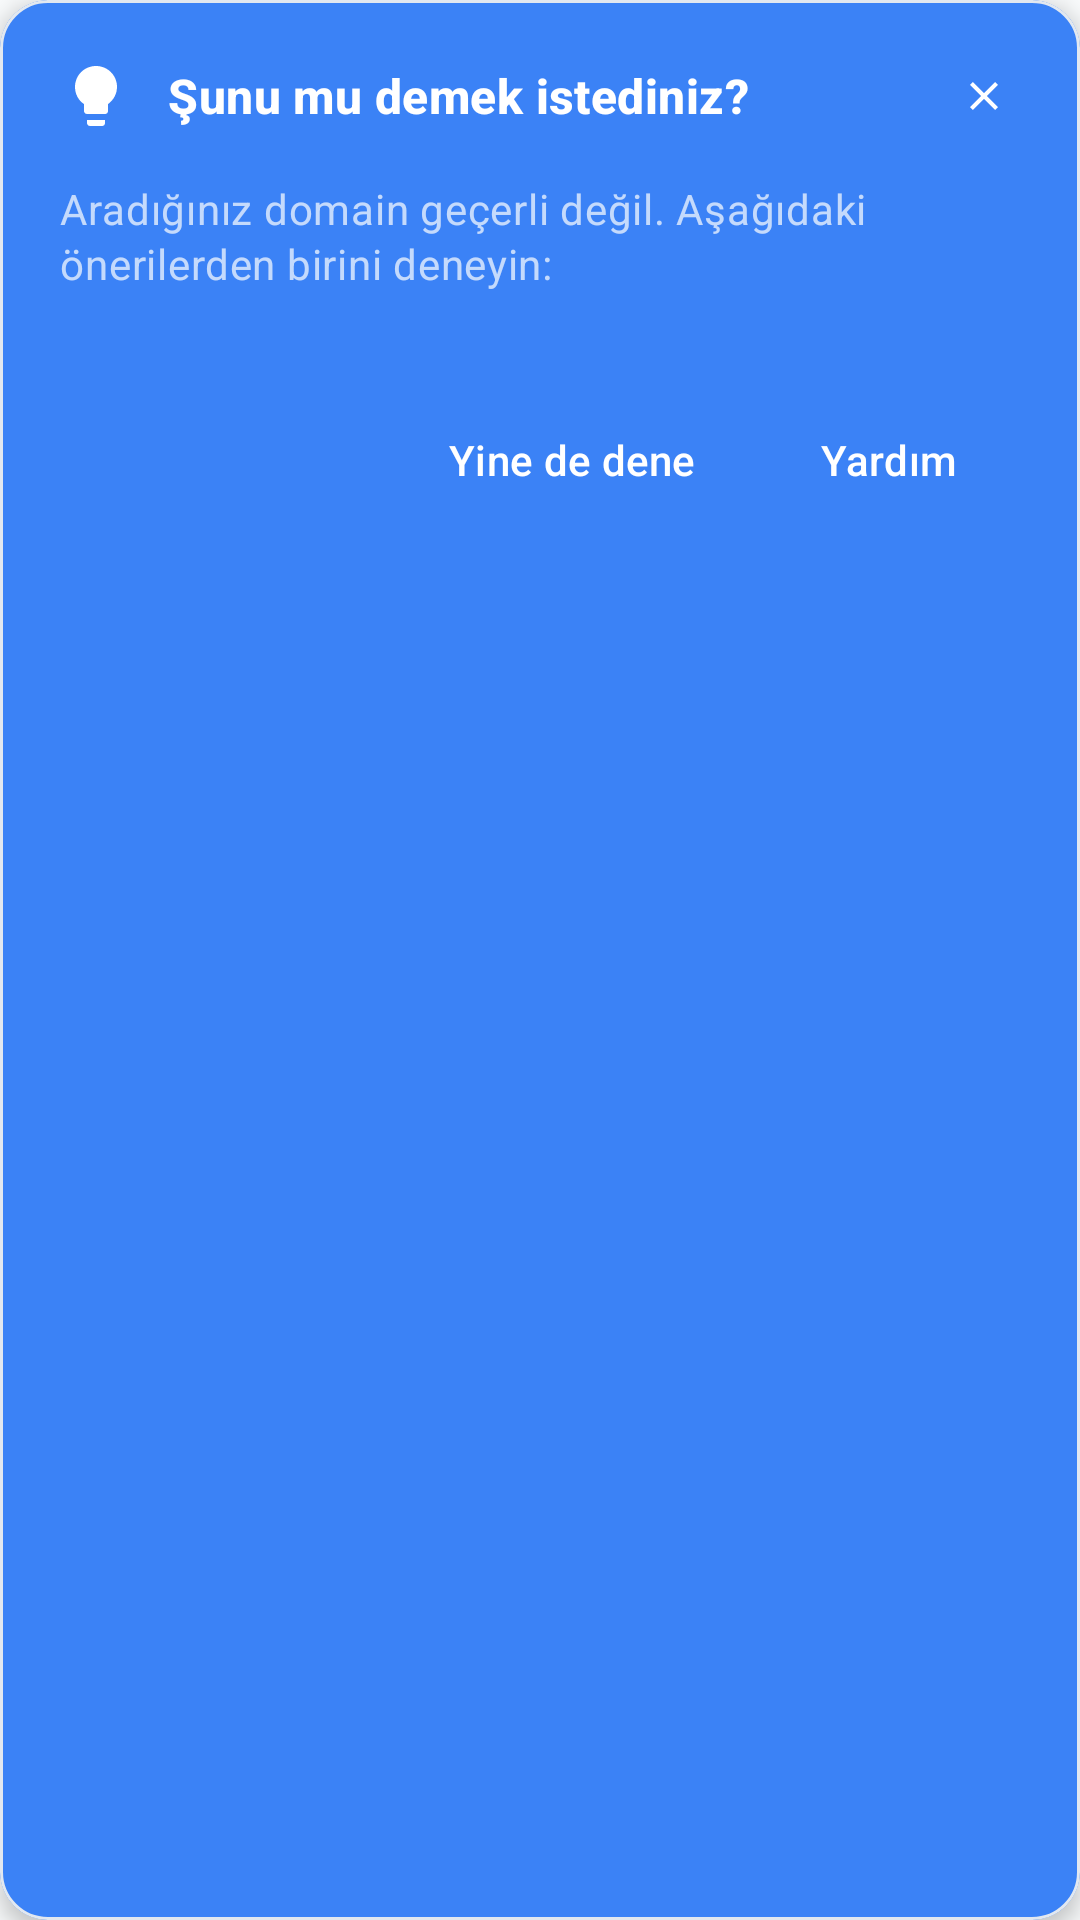

Named icons in this screenshot (1080*1920) and their centers, point (x, y):
Kapat: point (984, 96)
lightbulb: point (96, 96)
